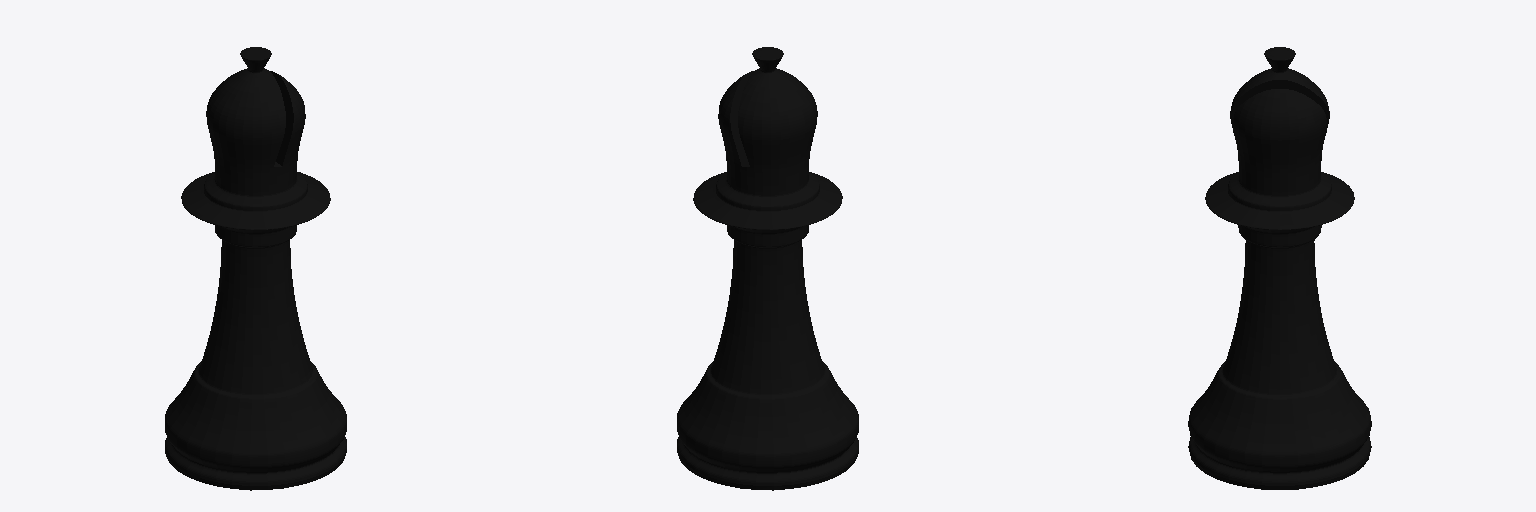
File: black_bishop.obj
3 views of the same model, side by side, from view 1: azimuth 30°, elevation 25°; view 2: azimuth 150°, elevation 25°; view 3: azimuth 270°, elevation 25° (orthographic).
Parts seen in each view (by area): view 1: Cube.001; view 2: Cube.001; view 3: Cube.001.
Boxes of the visible parts, box(x1,y1,x2,y2) form: Cube.001: box(165, 47, 346, 490); Cube.001: box(677, 47, 858, 490); Cube.001: box(1188, 47, 1371, 489).
Size of the model in its own units: 0.0357 by 0.0872 by 0.0357.